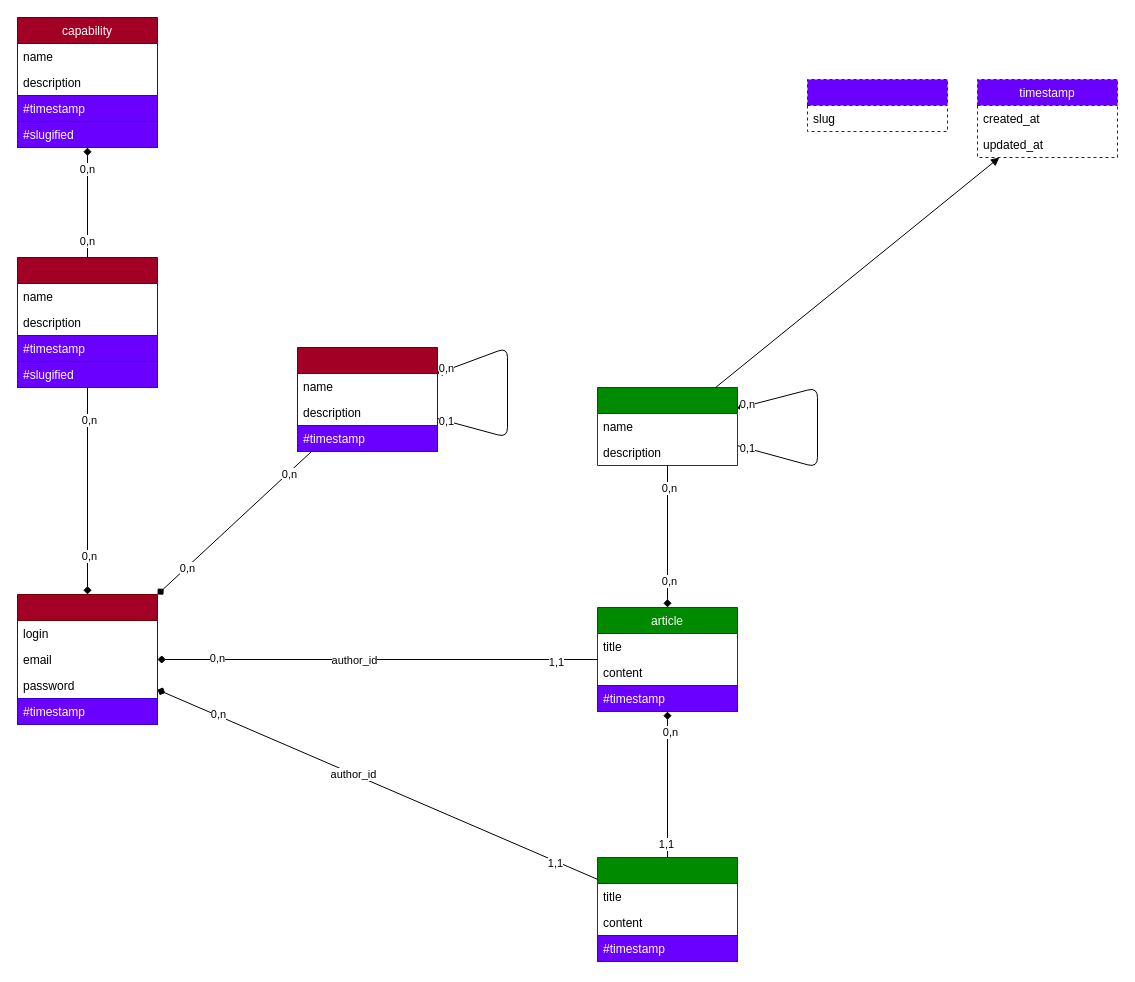
Image size: 1135x982. Some labels were removed from this diagram. The shapes that lost their labels are listed below. From the top down, each one's box as (x1, y1, x2, y2) in pixels, then its label:
(806, 78, 948, 132): slugified
(16, 256, 158, 388): role
(296, 346, 438, 452): group
(596, 386, 738, 466): category
(16, 594, 158, 724): user
(596, 856, 738, 962): comment
